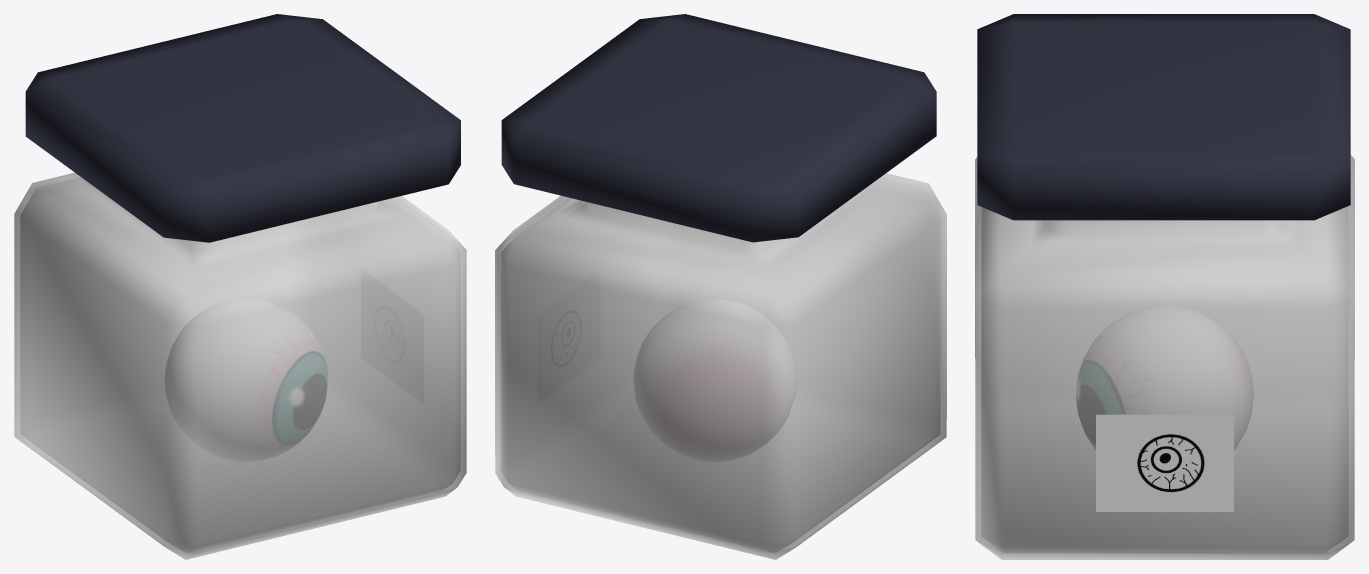
The model's file is Eye.fbx.
3 views of the same model, side by side, from view 1: azimuth 30°, elevation 25°; view 2: azimuth 150°, elevation 25°; view 3: azimuth 270°, elevation 25° (orthographic). The views are drawn at different scales.
Parts seen in each view (by area): view 1: Jar, Cap, Eyeball; view 2: Jar, Cap, Eyeball; view 3: Jar, Cap, Eyeball, Label.
Boxes of the visible parts, box(x1,y1,x2,y2) form: Jar: box(14, 172, 466, 559); Cap: box(25, 14, 460, 242); Eyeball: box(164, 298, 327, 461); Jar: box(495, 173, 946, 559); Cap: box(501, 14, 936, 242); Eyeball: box(633, 299, 796, 461); Jar: box(975, 155, 1354, 559); Cap: box(977, 14, 1350, 220); Eyeball: box(1076, 305, 1253, 449); Label: box(1096, 414, 1233, 511).
Size of the model in its own units: 320 by 375 by 319.
Materials: 4 (2 with a texture image).
